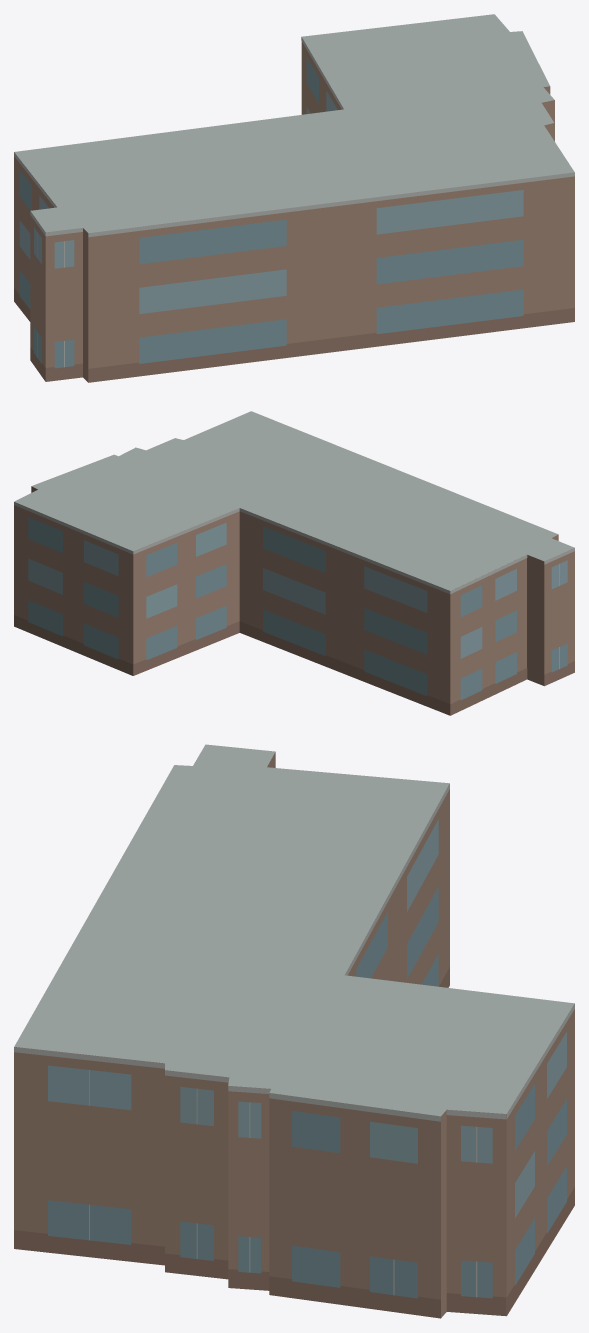
Rendered from survey-upis-32740171.glb.
The picture shows the model from 3 angles, top to bottom: view 1: azimuth 30°, elevation 25°; view 2: azimuth 150°, elevation 25°; view 3: azimuth 270°, elevation 25°; orthographic projection. The views are drawn at different scales.
Parts seen in each view (by area): view 1: survey-upis-32740171.tmp; view 2: survey-upis-32740171.tmp; view 3: survey-upis-32740171.tmp.
Part boxes in pixels (x1,y1,x2,y2): survey-upis-32740171.tmp: (14,14,574,382); survey-upis-32740171.tmp: (14,411,574,715); survey-upis-32740171.tmp: (14,744,574,1318).
Size of the model in its own units: 36.13 by 9.15 by 23.02.
